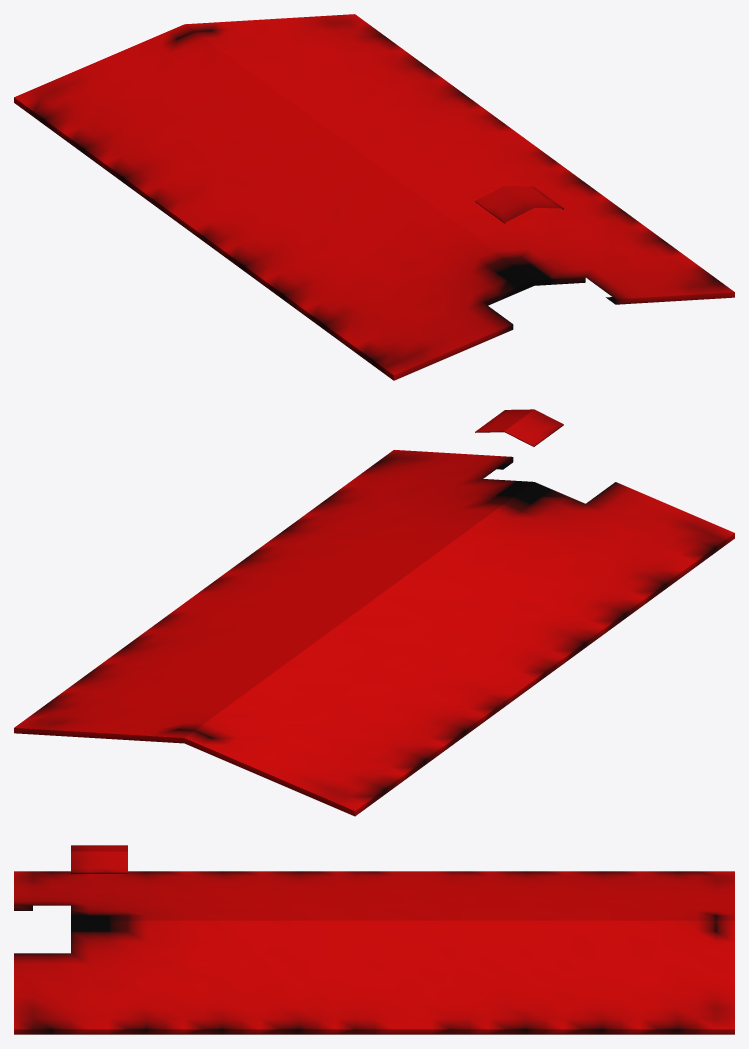
Rendered from Roof_export.obj.
3 views of the same model, one above another, from view 1: azimuth 30°, elevation 25°; view 2: azimuth 150°, elevation 25°; view 3: azimuth 270°, elevation 25° (orthographic). The views are drawn at different scales.
Visible parts, largest first — view 1: Roof; view 2: Roof; view 3: Roof.
Part boxes in pixels (x1,y1,x2,y2): Roof: (14, 14, 734, 380); Roof: (14, 409, 734, 816); Roof: (14, 845, 734, 1034).
Bounding box in the file's own units: 19.7 × 6.04 × 38.
